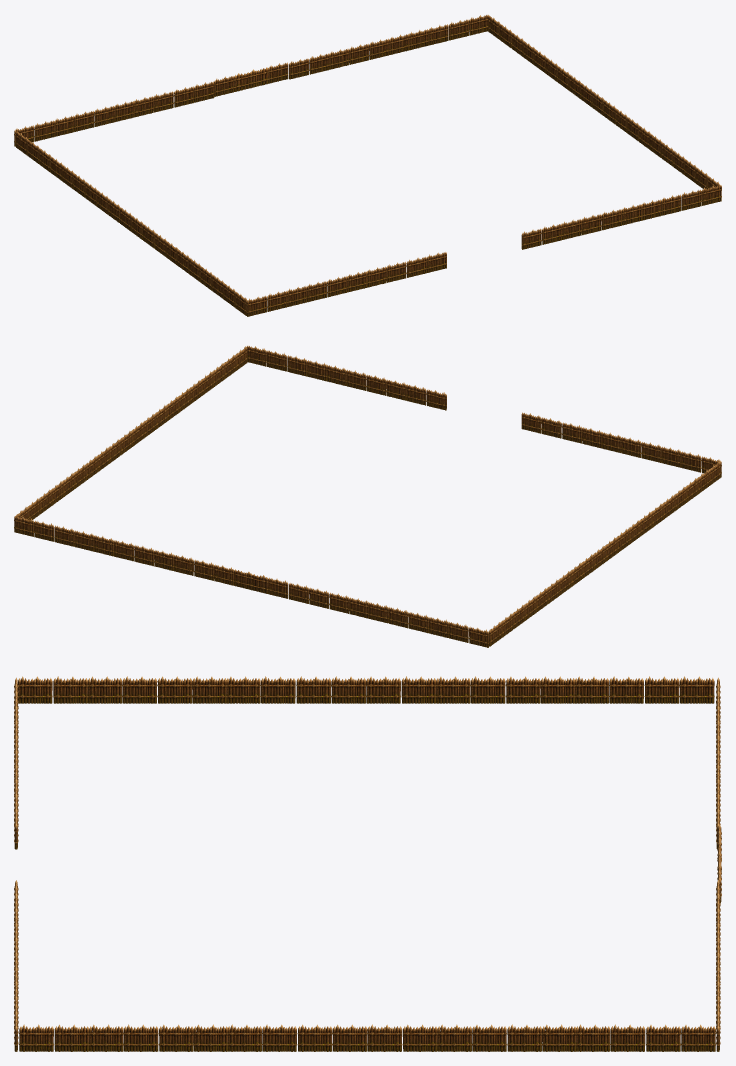
File: walls.glb
3 renders of one model, top to bottom at view 1: azimuth 30°, elevation 25°; view 2: azimuth 150°, elevation 25°; view 3: azimuth 270°, elevation 25°, orthographic. The views are drawn at different scales.
Parts seen in each view (by area): view 1: Walllvl1.010, Walllvl1.001, Walllvl1.006, Walllvl1.007, Walllvl1.005, Walllvl1.003, Walllvl1.002, Walllvl1.004, Walllvl1.008; view 2: Walllvl1.007, Walllvl1.006, Walllvl1.010, Walllvl1.001, Walllvl1.003, Walllvl1.004, Walllvl1.002, Walllvl1.005, Walllvl1.008; view 3: Walllvl1.003, Walllvl1.002, Walllvl1.005, Walllvl1.004, Walllvl1.006, Walllvl1.010, Walllvl1.001, Walllvl1.007.
Part boxes in pixels (x1,y1,x2,y2): Walllvl1.010: [521, 185, 721, 249]; Walllvl1.001: [246, 252, 446, 316]; Walllvl1.006: [289, 14, 488, 79]; Walllvl1.007: [14, 81, 214, 146]; Walllvl1.005: [488, 15, 604, 115]; Walllvl1.003: [16, 131, 131, 231]; Walllvl1.002: [131, 215, 247, 315]; Walllvl1.004: [603, 100, 719, 189]; Walllvl1.008: [234, 67, 268, 91]; Walllvl1.007: [289, 583, 489, 647]; Walllvl1.006: [14, 516, 214, 580]; Walllvl1.010: [247, 345, 446, 410]; Walllvl1.001: [521, 412, 721, 477]; Walllvl1.003: [489, 546, 605, 646]; Walllvl1.004: [131, 346, 247, 446]; Walllvl1.002: [604, 461, 720, 561]; Walllvl1.005: [15, 431, 131, 520]; Walllvl1.008: [233, 569, 268, 593]; Walllvl1.003: [366, 676, 714, 703]; Walllvl1.002: [18, 676, 366, 703]; Walllvl1.005: [367, 1024, 715, 1051]; Walllvl1.004: [19, 1024, 367, 1051]; Walllvl1.006: [716, 880, 720, 1051]; Walllvl1.010: [14, 880, 18, 1051]; Walllvl1.001: [14, 677, 18, 849]; Walllvl1.007: [716, 677, 720, 848].
Size of the model in its own units: 11.26 by 0.4163 by 9.62.
Materials: 2 (2 with a texture image).
